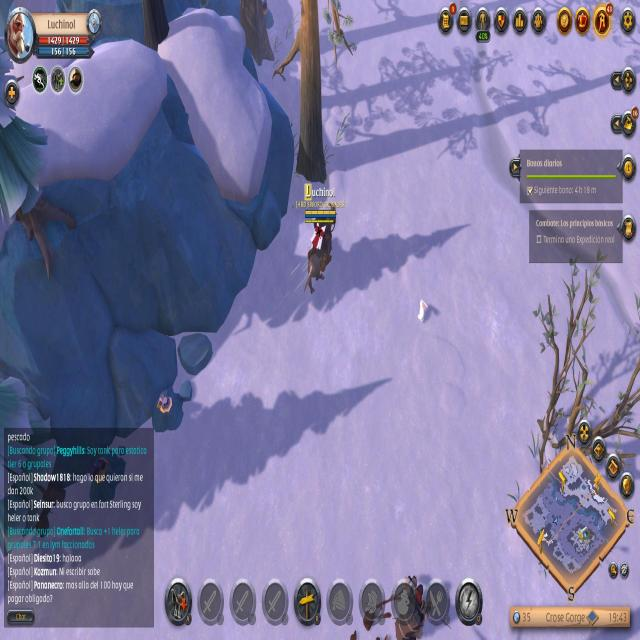piedra_cobre: (147, 379, 187, 436)
